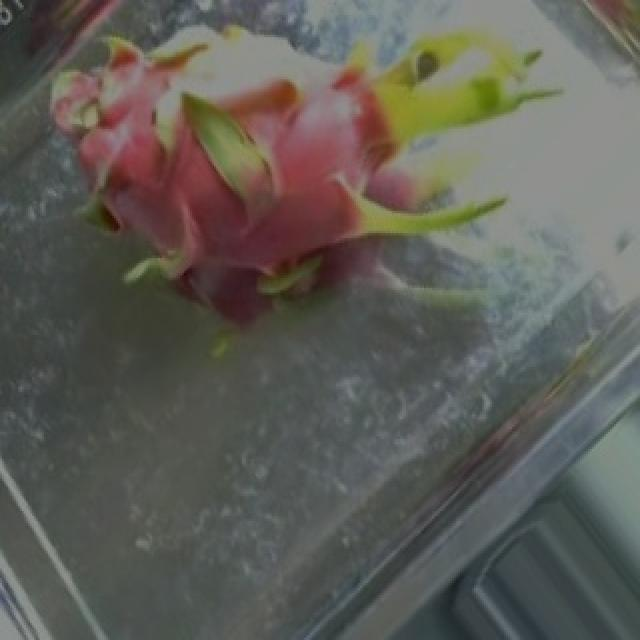fruit: (148, 0, 580, 419), (2, 0, 350, 417)
